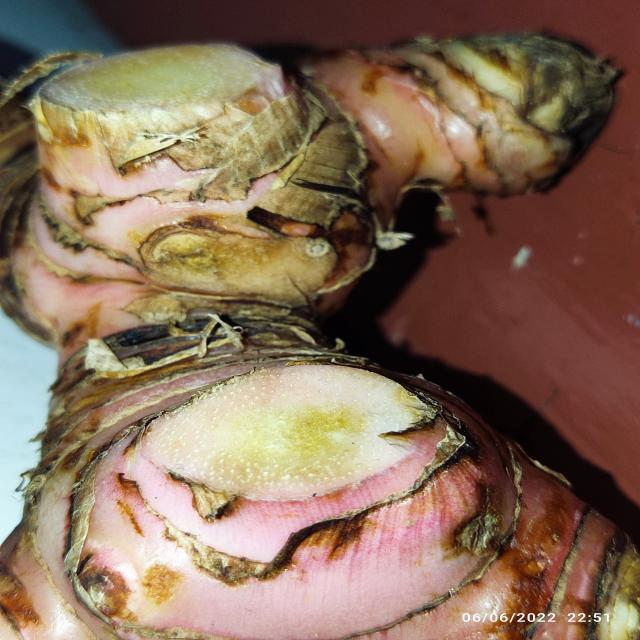ginger: (16, 19, 612, 640)
